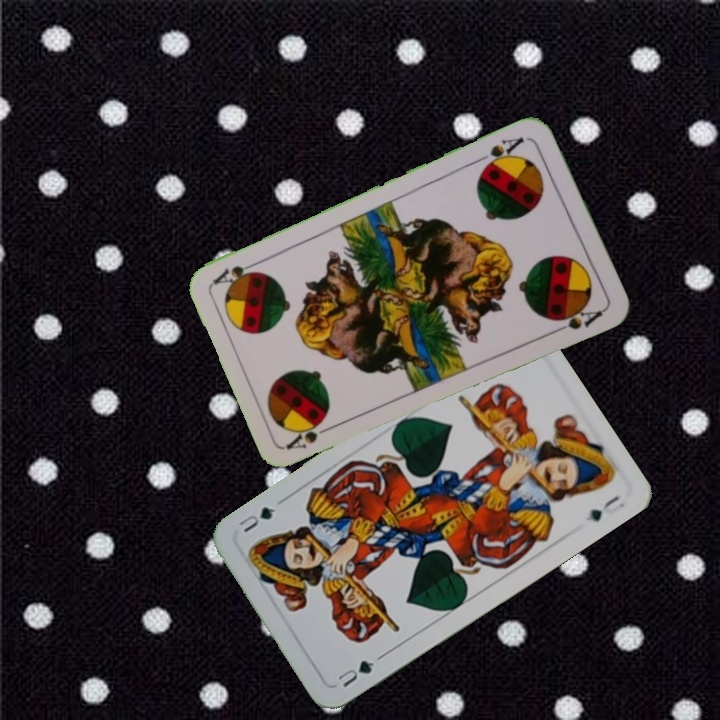GU: (333, 656, 377, 690)
SA: (474, 132, 527, 173), (283, 417, 339, 453)
